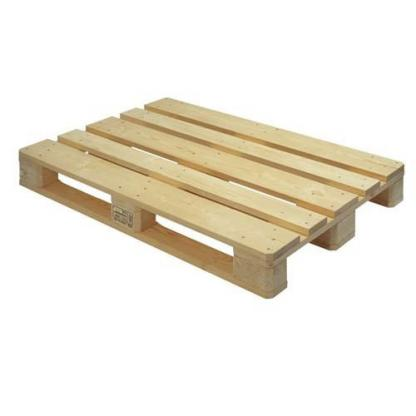BoxFace: (18, 98, 406, 303)
